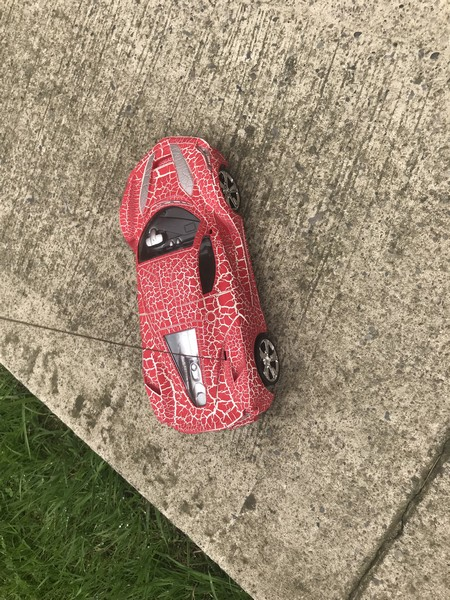RC: (117, 134, 283, 436)
